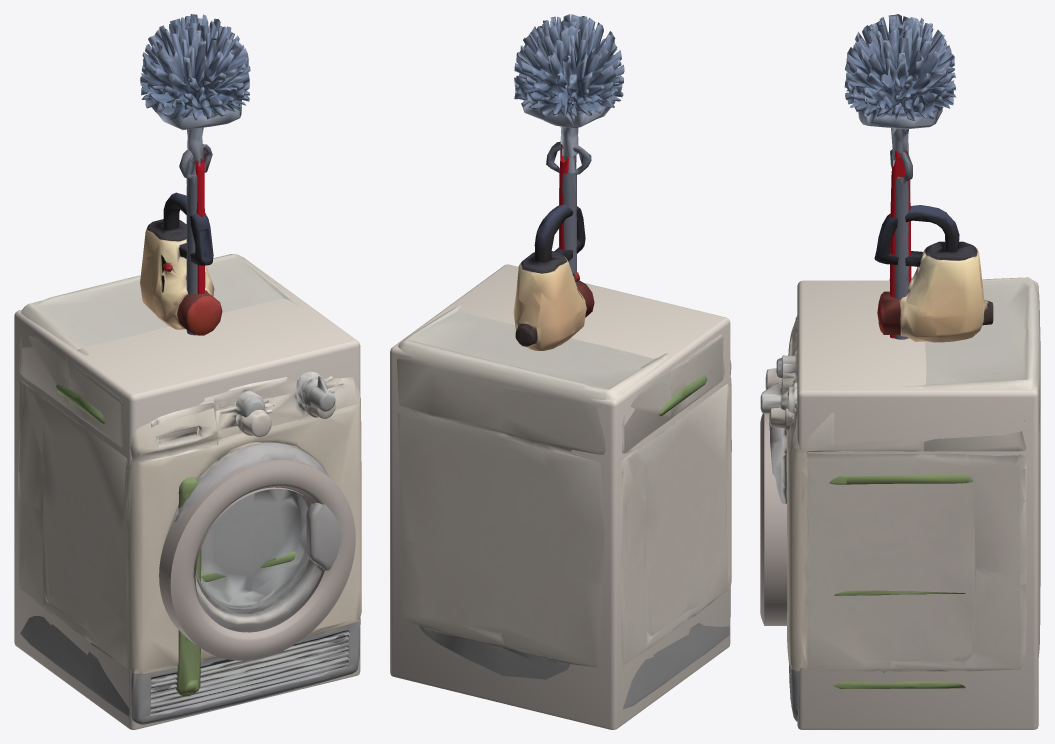
File: menage.glb
3 views of the same model, side by side, from view 1: azimuth 30°, elevation 25°; view 2: azimuth 150°, elevation 25°; view 3: azimuth 270°, elevation 25° (orthographic). The views are drawn at different scales.
Visible parts, largest first — view 1: seche-linge, porte (×2), machine-laver, tete-de-loup, aspirateur, chariot-menage, serpilliere, balai; view 2: seche-linge, machine-laver, tete-de-loup, aspirateur, serpilliere, chariot-menage; view 3: seche-linge, machine-laver, tete-de-loup, aspirateur, porte (×2), chariot-menage, serpilliere, balai.
Boxes of the visible parts, x1,y1,x2,y2 form: seche-linge: (18,254,361,724); porte (×2): (159,444,355,660); machine-laver: (14,257,360,729); tete-de-loup: (140,14,250,174); aspirateur: (140,192,222,335); chariot-menage: (56,384,296,696); serpilliere: (179,144,212,335); balai: (195,149,205,335); seche-linge: (397,302,731,709); machine-laver: (390,264,730,729); tete-de-loup: (514,14,624,173); aspirateur: (513,204,594,350); serpilliere: (546,141,591,285); chariot-menage: (658,375,707,416); seche-linge: (760,277,1040,721); machine-laver: (765,280,1038,729); tete-de-loup: (844,14,956,166); aspirateur: (874,205,993,342); porte (×2): (760,413,787,625); chariot-menage: (829,474,973,688); serpilliere: (890,149,912,339); balai: (889,150,911,338).
Bounding box in the file's own units: 0.611 × 1.6 × 0.6198.
21 materials, 21 textured.
